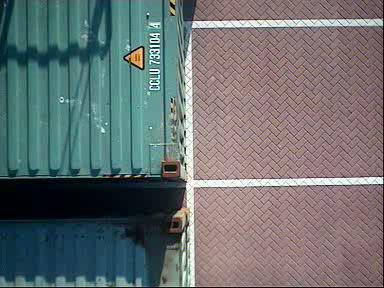groundmarker_2: (97, 33, 160, 76), (96, 163, 158, 205), (97, 1, 157, 35)
